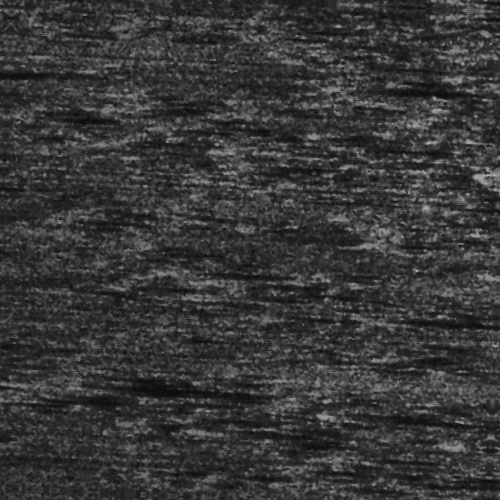object: (46, 387, 151, 398), (306, 78, 399, 87), (203, 428, 276, 437), (399, 1, 492, 8), (327, 408, 390, 417), (316, 307, 389, 314), (480, 150, 500, 175), (170, 268, 233, 275), (170, 294, 233, 299), (474, 169, 500, 180), (462, 261, 500, 266)
shadow: (98, 387, 281, 398), (359, 408, 497, 417), (240, 428, 349, 437), (353, 307, 475, 314), (353, 78, 433, 87), (202, 268, 303, 275), (0, 79, 51, 88), (445, 1, 500, 8), (202, 294, 252, 299), (494, 261, 500, 266)
